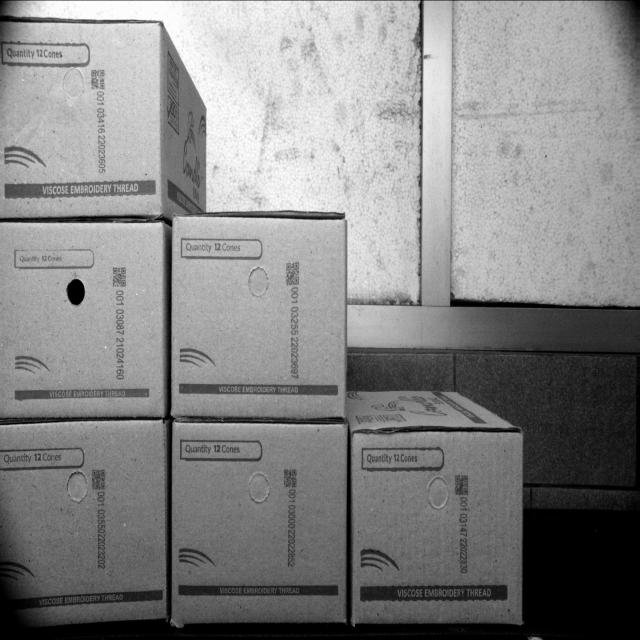cardboxes: (170, 214, 352, 427), (170, 423, 348, 629), (1, 414, 168, 632), (356, 426, 523, 629), (0, 223, 172, 419), (5, 17, 166, 220)
